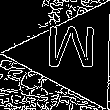M_S: (46, 29, 99, 80)
